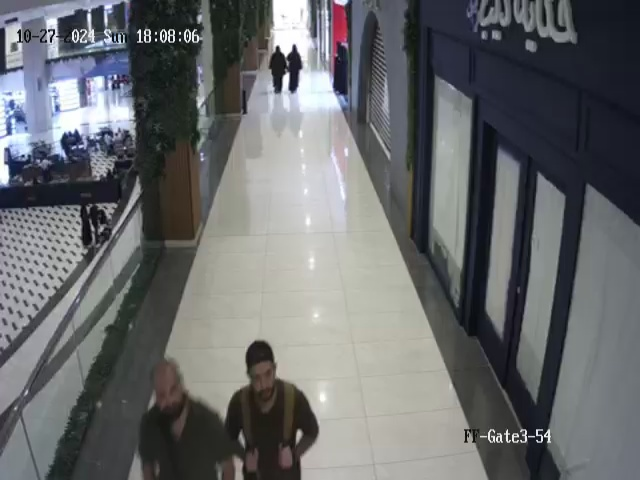female: (268, 45, 287, 94), (286, 44, 303, 94), (77, 200, 91, 243), (93, 199, 102, 239)
male: (224, 340, 320, 480), (137, 358, 237, 480)
